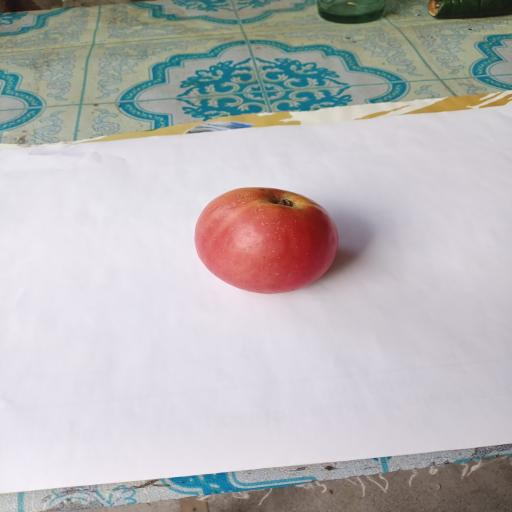apple-ripe: (185, 181, 354, 299)
